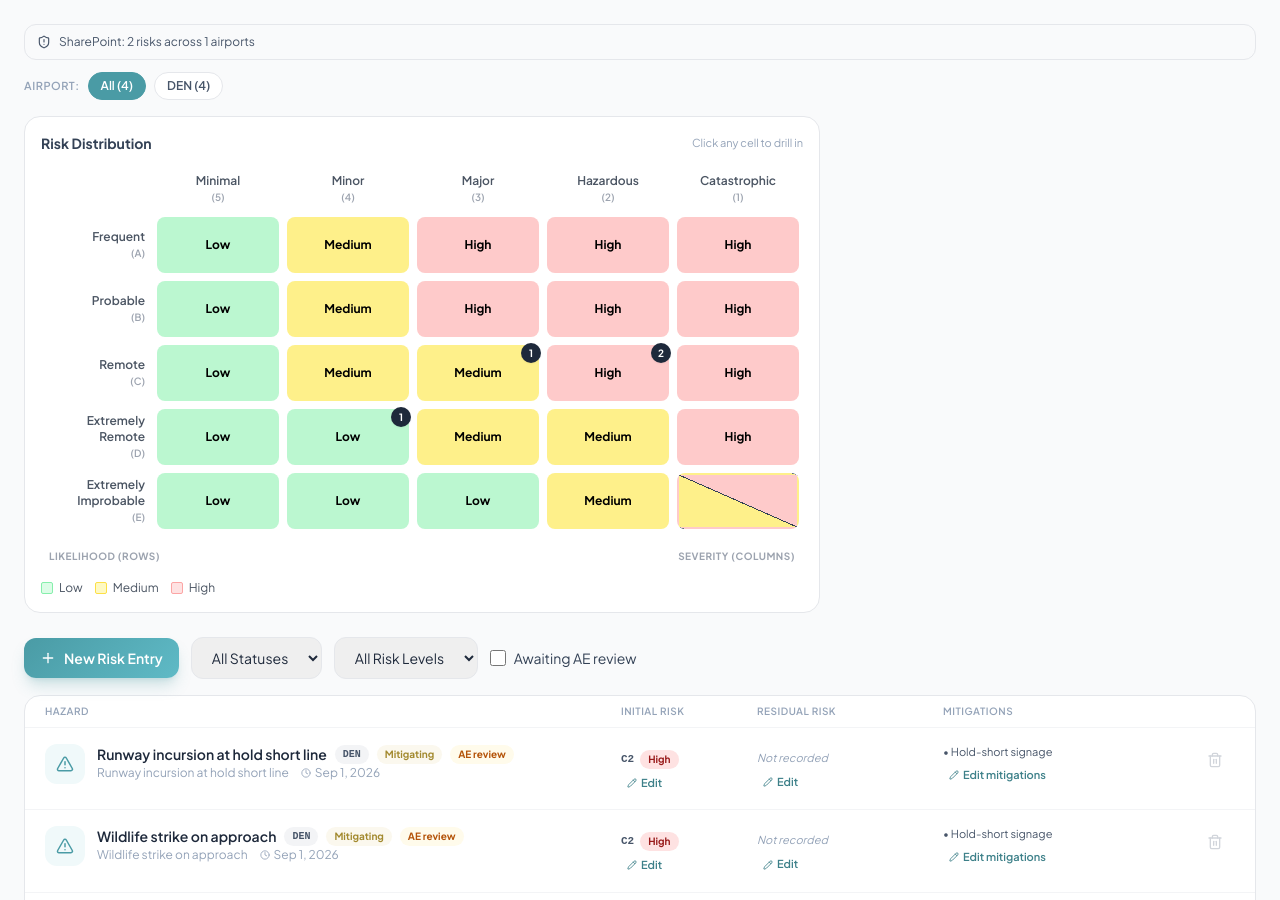
Test case: RiskListView delete › asks for confirmation before deleting a hazard
Click the 2nd button named "Delete hazard": (1215, 842) [1199,826,1231,858]
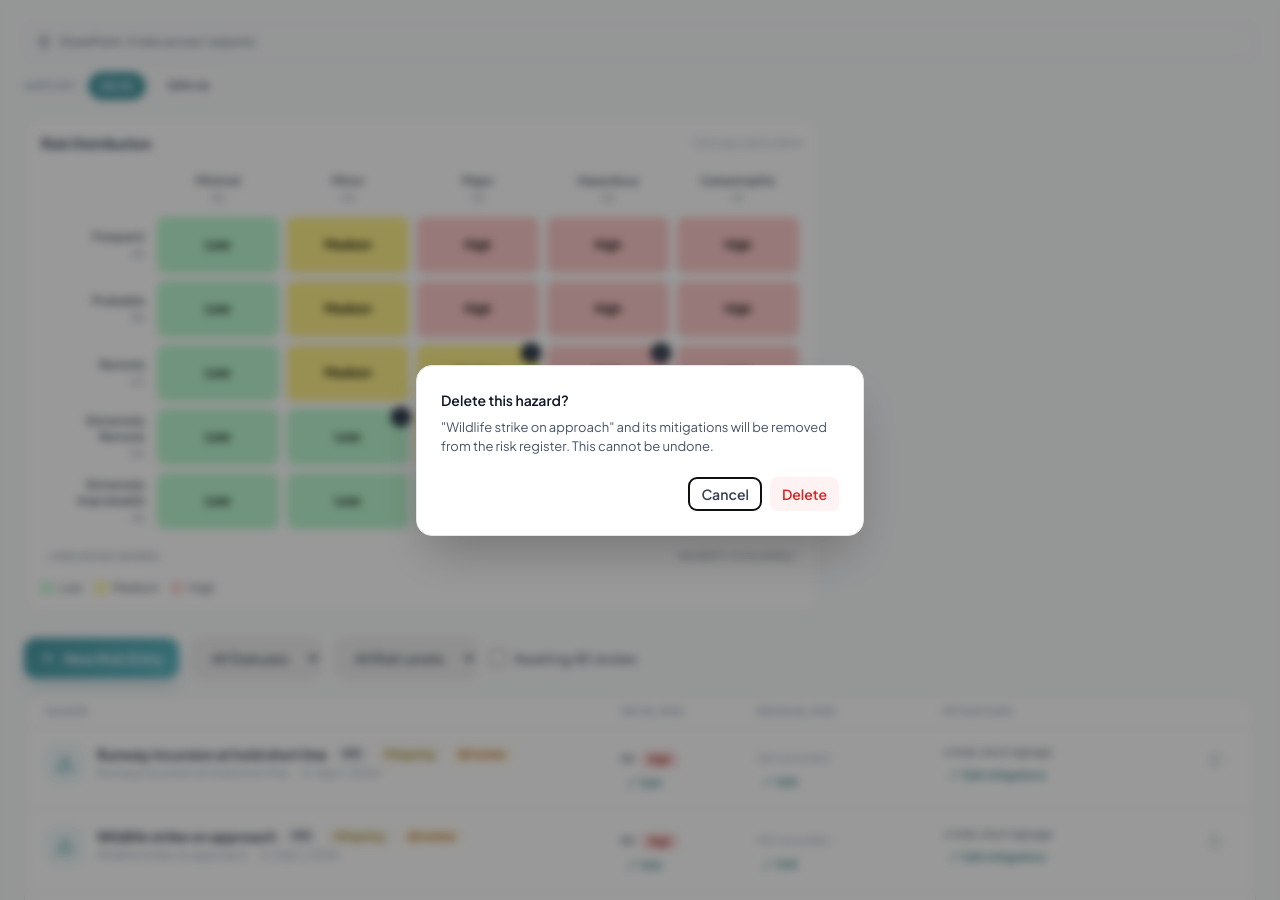
Check: the text "\"Wildlife strike on approach\"" is shown, box [441,418,827,454]
Click the button "Delete": (804, 494) [770,476,839,510]
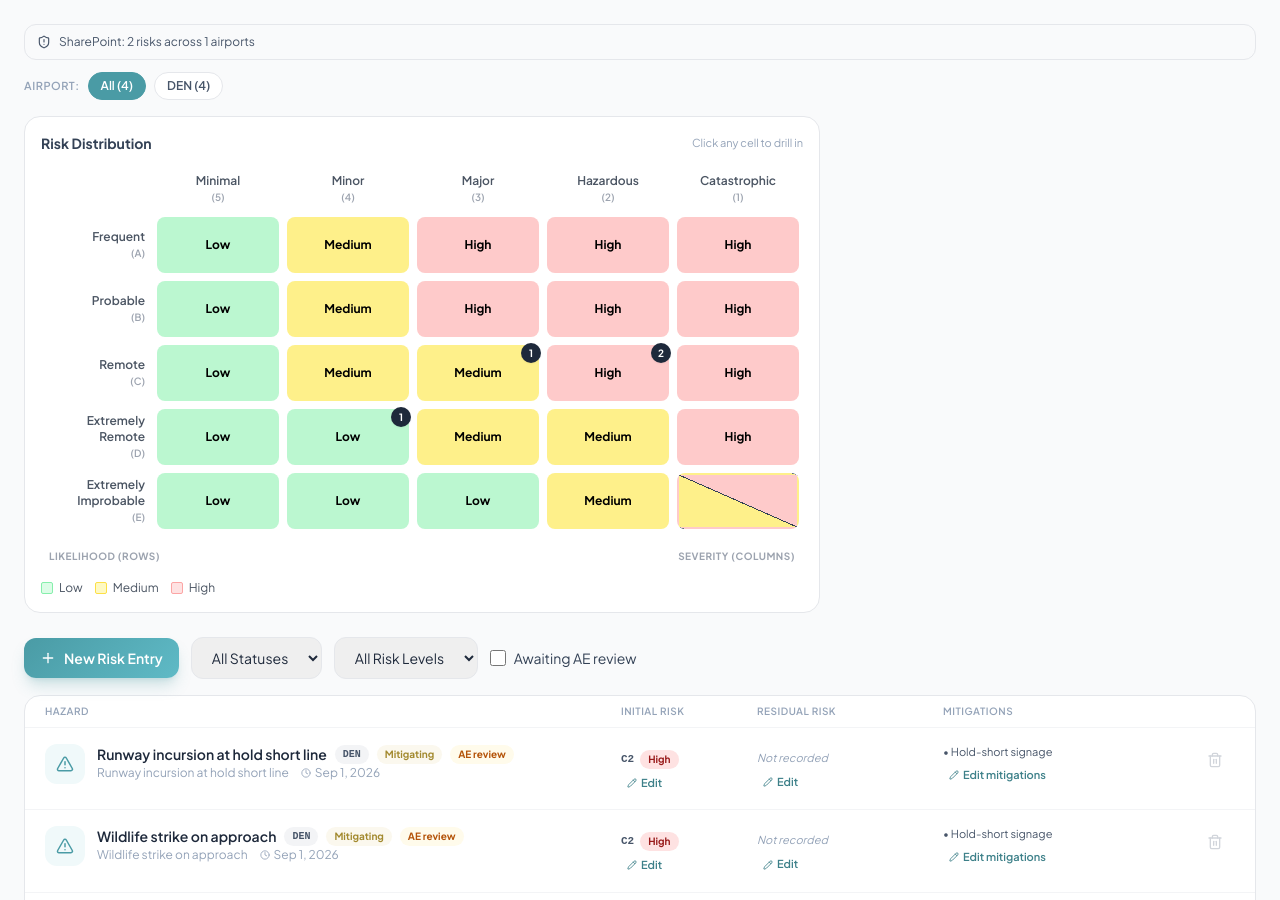
Check: the dialog is gone
